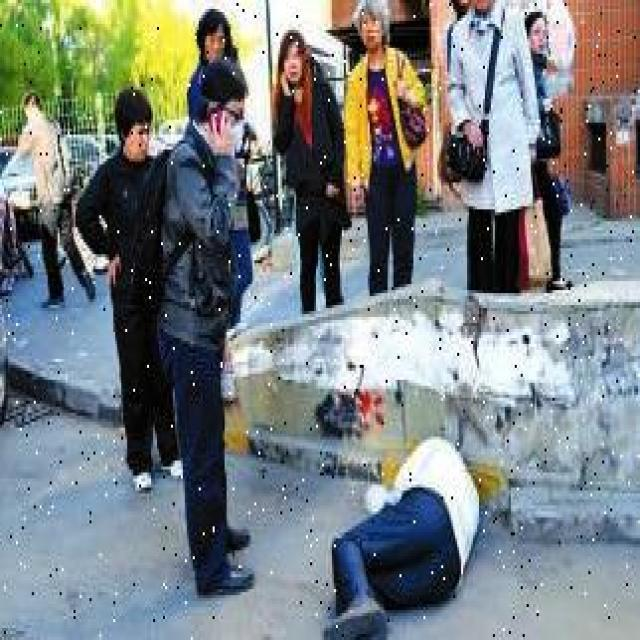fall: (322, 433, 473, 638)
